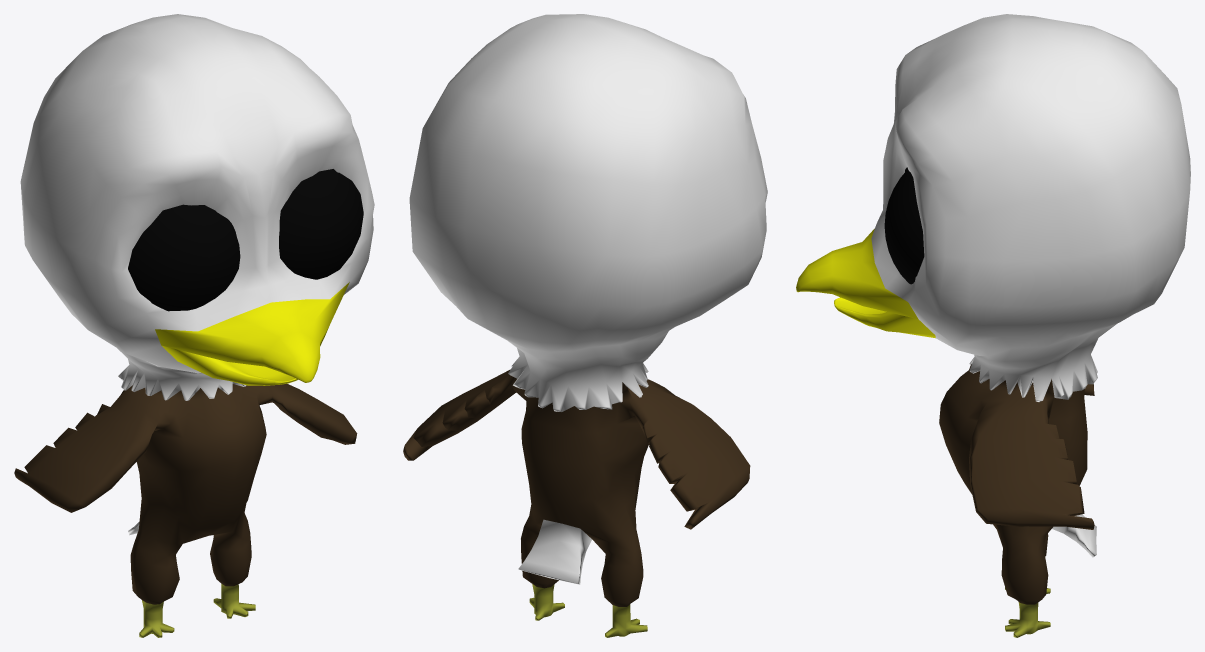
The model's file is EagleFBX_1.fbx.
3 views of the same model, side by side, from view 1: azimuth 30°, elevation 25°; view 2: azimuth 150°, elevation 25°; view 3: azimuth 270°, elevation 25° (orthographic). The views are drawn at different scales.
Visible parts, largest first — view 1: polySurface2, EyeMesh_R, polySurface3, EyeMesh_L, polySurface4; view 2: polySurface2; view 3: polySurface2, polySurface3, EyeMesh_L, polySurface4.
Boxes of the visible parts, <box> form: polySurface2: <box>14,14,374,637</box>; EyeMesh_R: <box>128,204,240,311</box>; polySurface3: <box>155,282,349,382</box>; EyeMesh_L: <box>279,169,363,279</box>; polySurface4: <box>162,345,298,385</box>; polySurface2: <box>403,14,767,637</box>; polySurface2: <box>871,14,1190,637</box>; polySurface3: <box>796,229,918,319</box>; EyeMesh_L: <box>884,169,924,284</box>; polySurface4: <box>834,297,935,338</box>.
Bounding box in the file's own units: 4.12 × 7.84 × 4.8.
